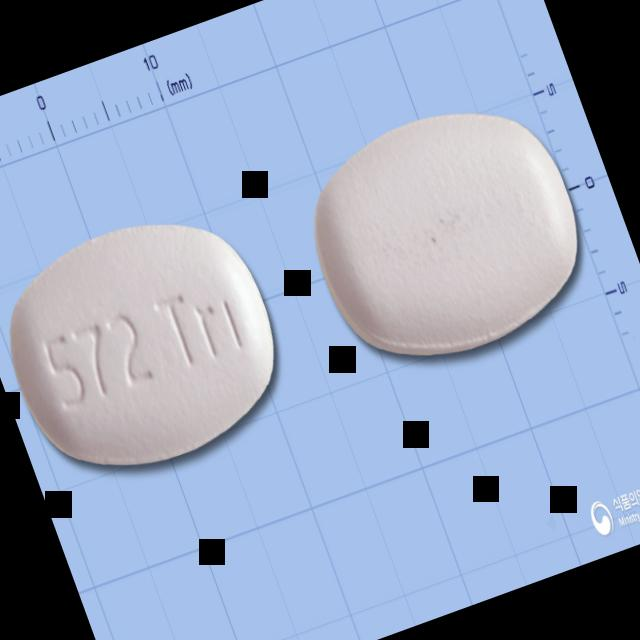Clarimicin: (286, 80, 609, 388), (0, 189, 304, 499)
